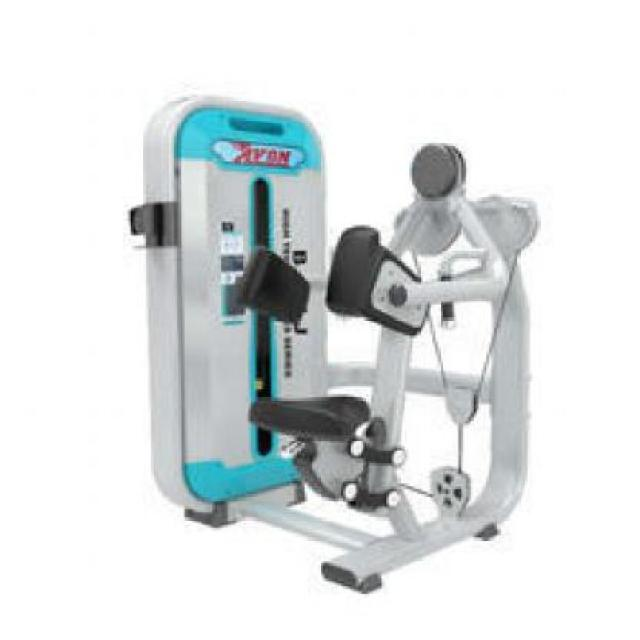lateral raises machine: (131, 92, 540, 597)
